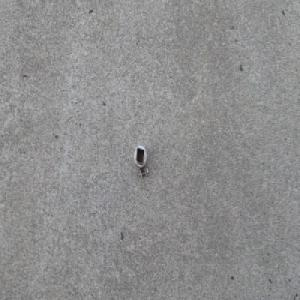MetalPart: (133, 144, 149, 180)
